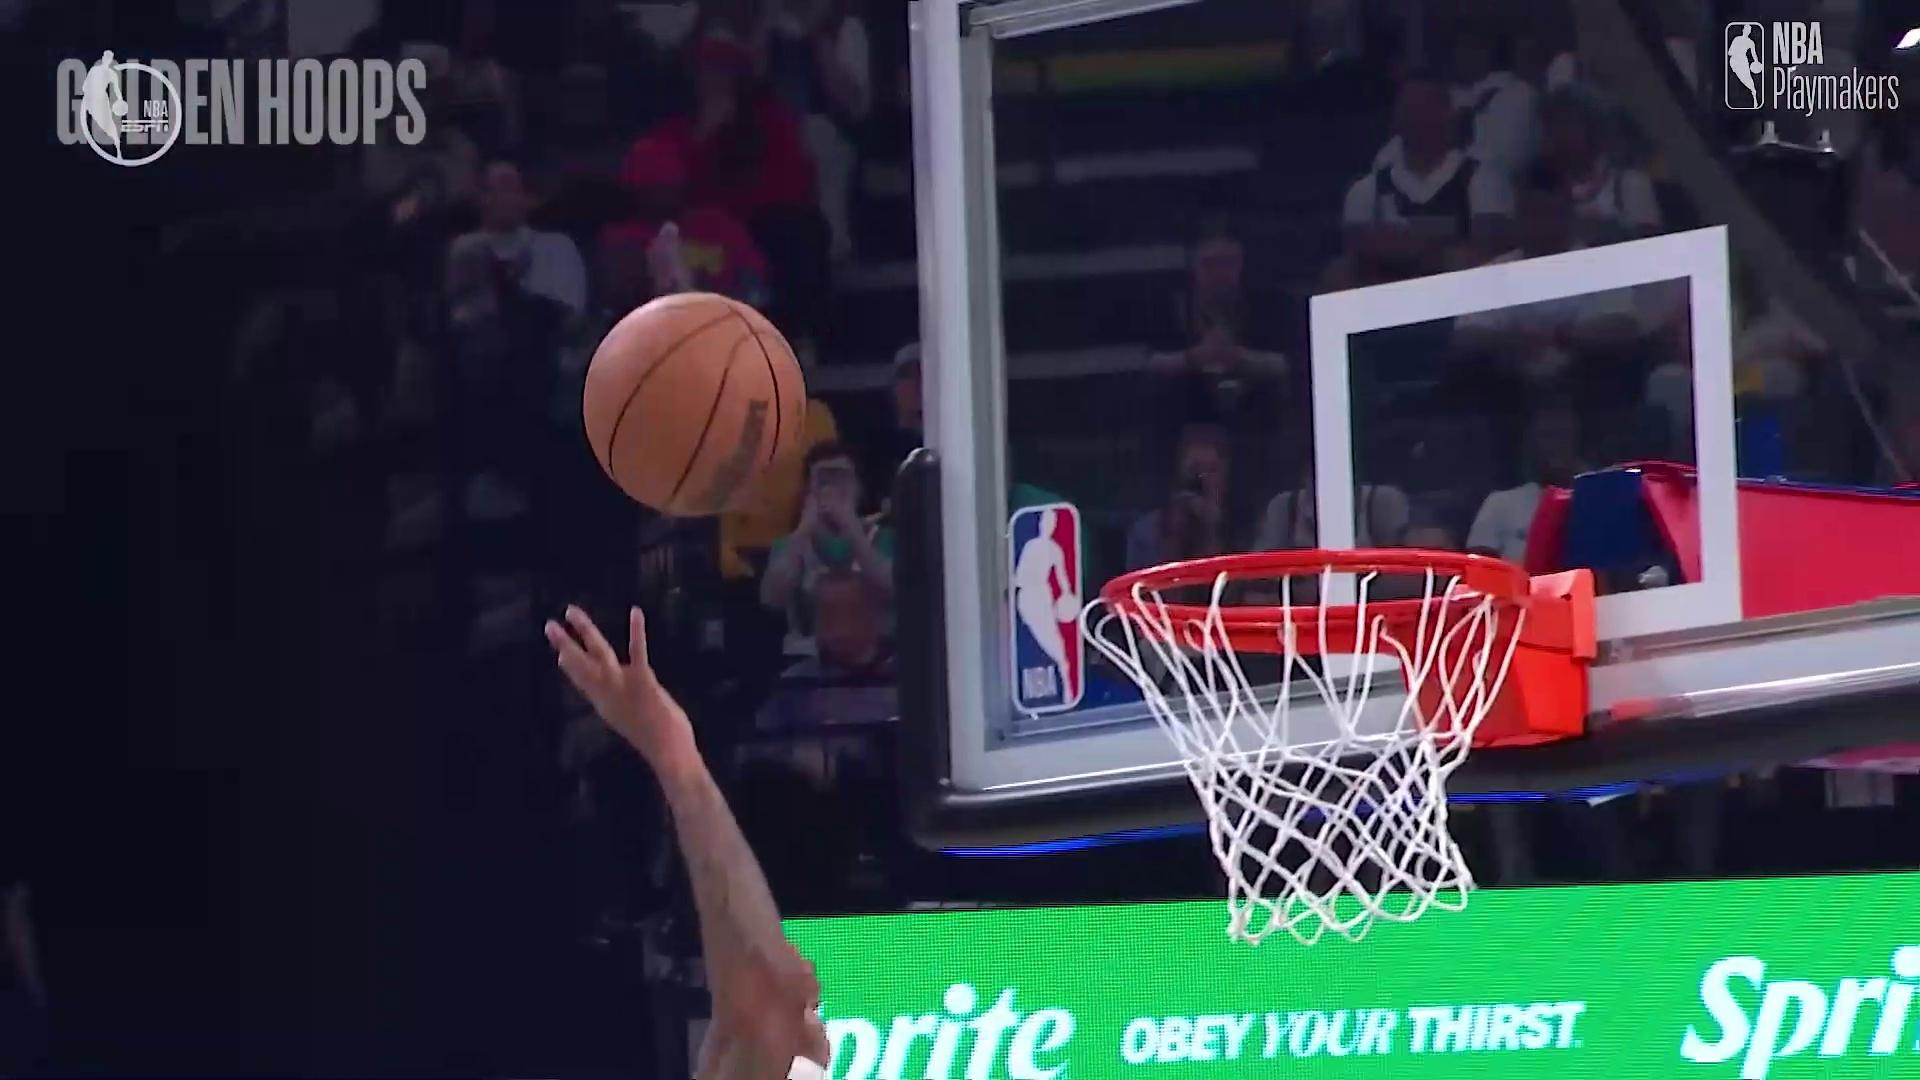ball: (560, 297, 811, 531)
hoop: (1104, 550, 1536, 918)
